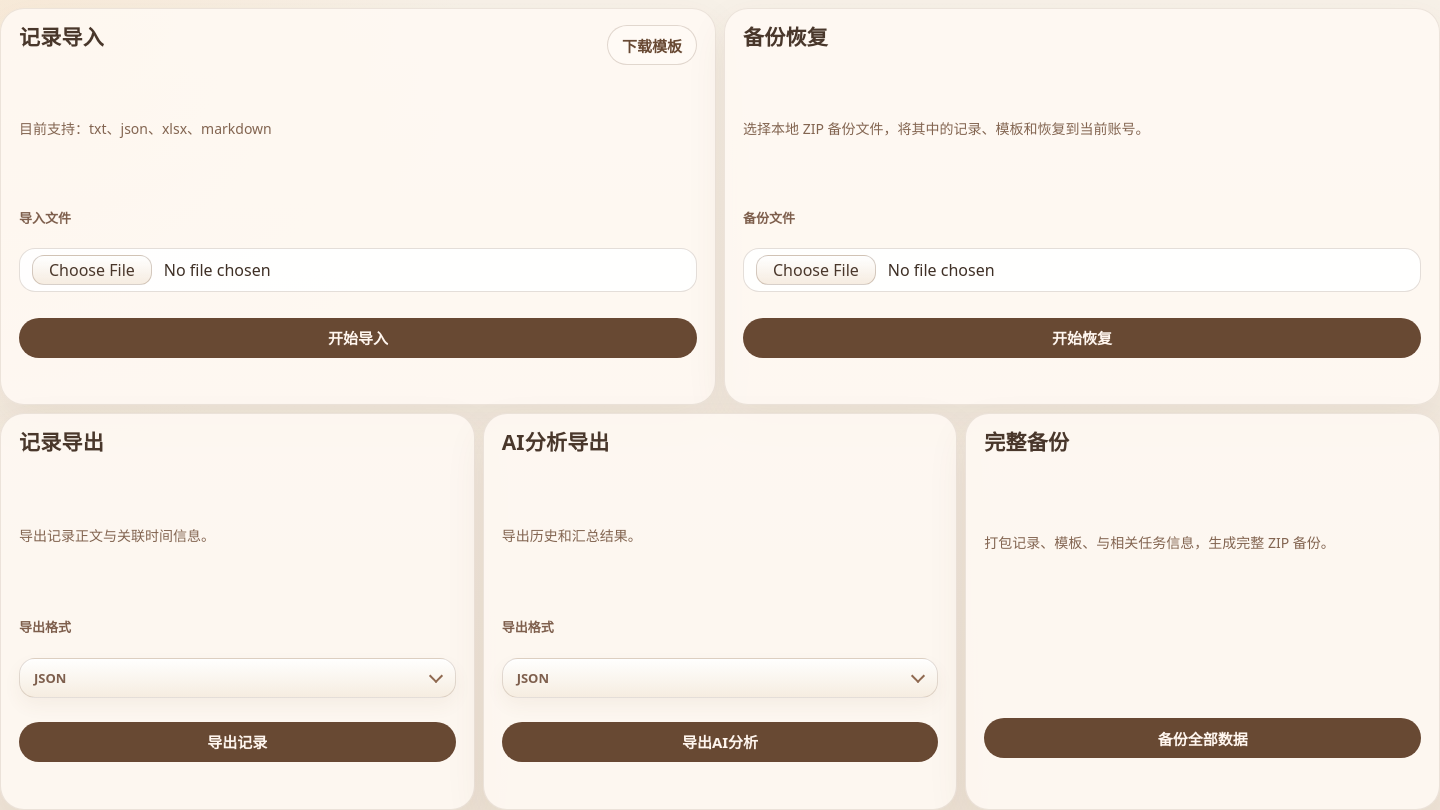
Test: DataCenterPage › allows guest to download import template zip
Step 1. Click the button "下载模板" → (652, 45), box [607, 25, 697, 65]
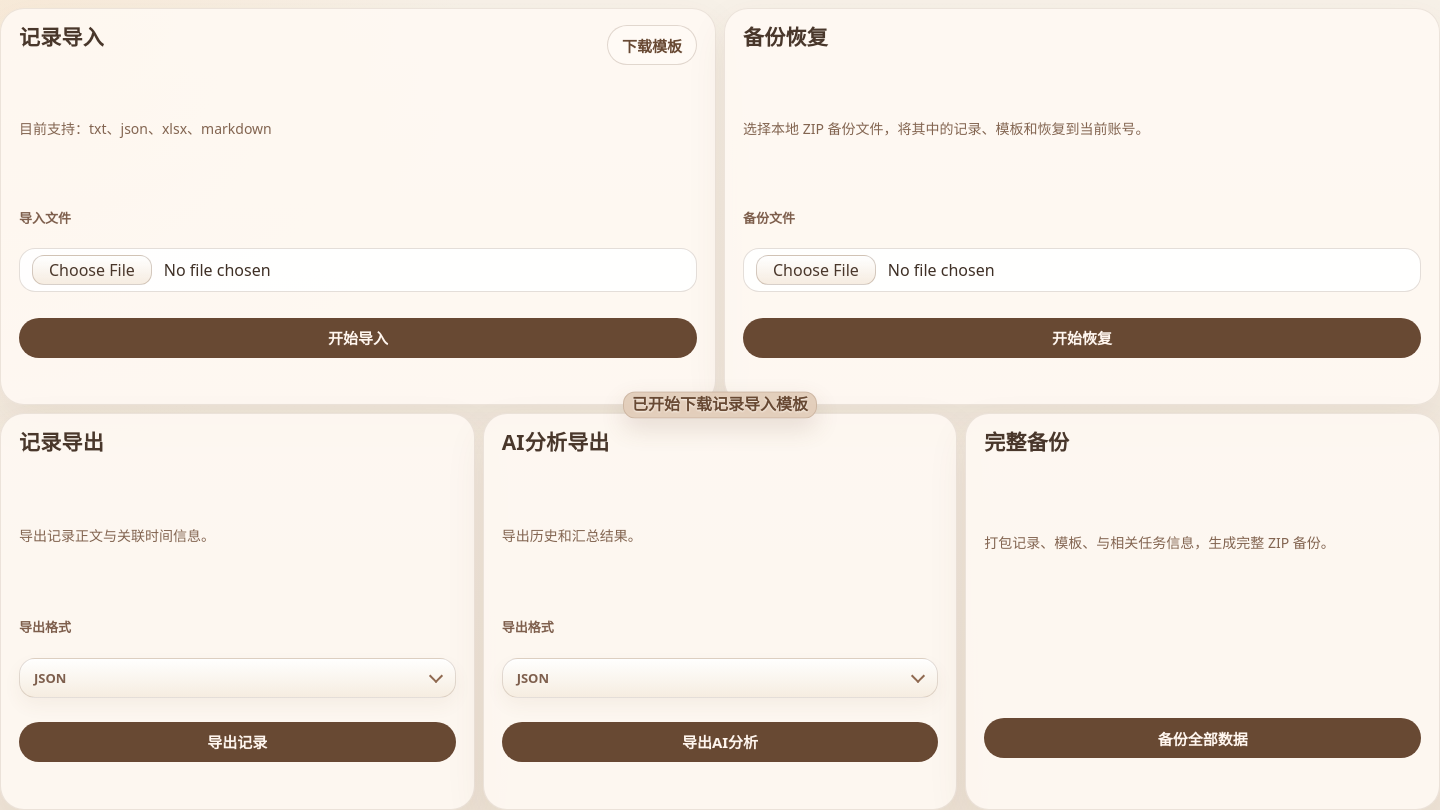
Now the text "已开始下载记录导入模板" is shown, box [632, 395, 808, 415]
